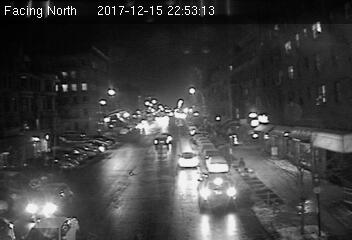car: (24, 183, 74, 217), (197, 173, 240, 211), (24, 218, 83, 240), (176, 151, 202, 168), (205, 156, 230, 173), (153, 135, 172, 147)
